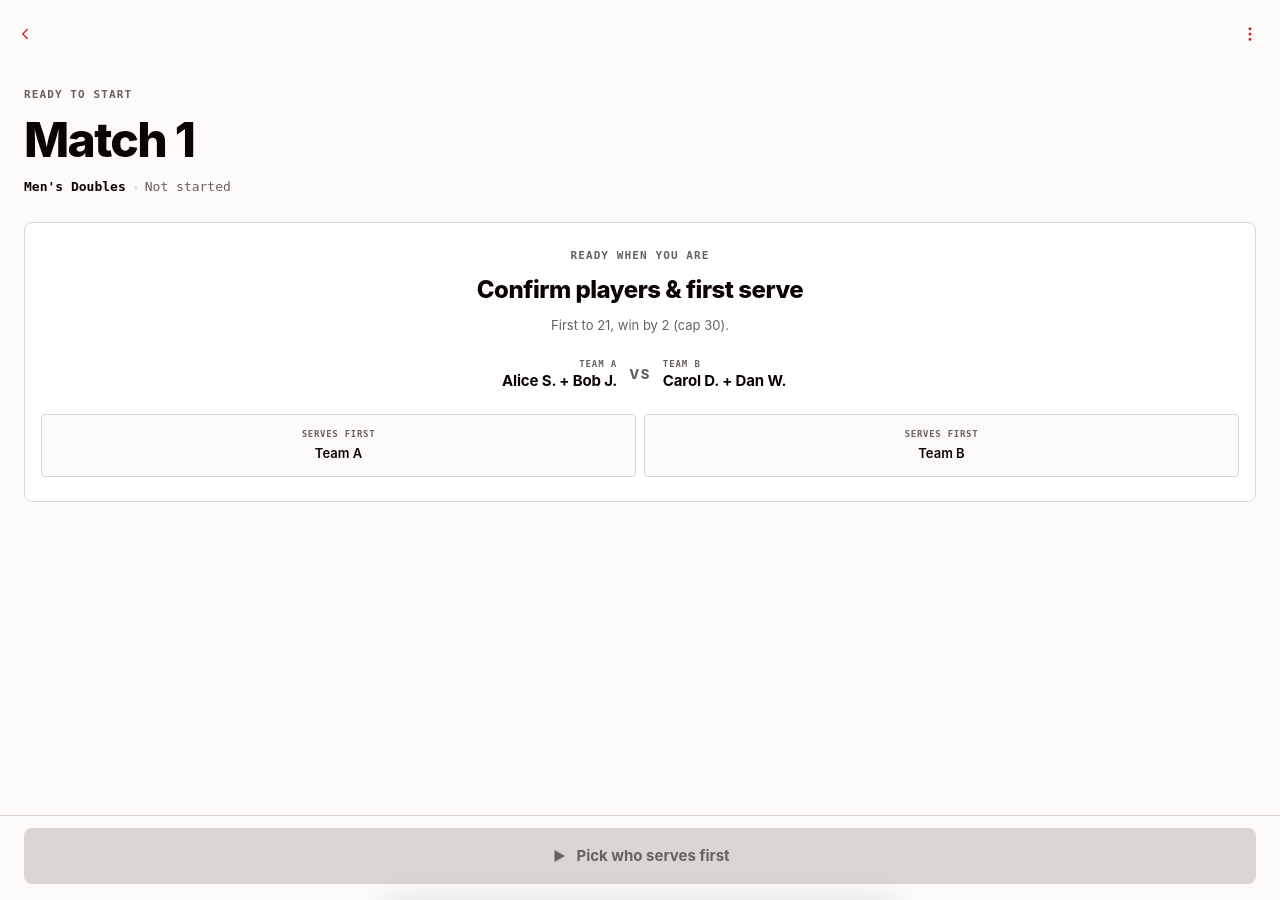
MatchDetailPage › menu sheet › shows "Delete match" option in the menu
What coordinates should you click on to do the following:
click the button named "more options"
I would click on:
 (1250, 34)
Its box is x1=1228 y1=12 x2=1272 y2=56.
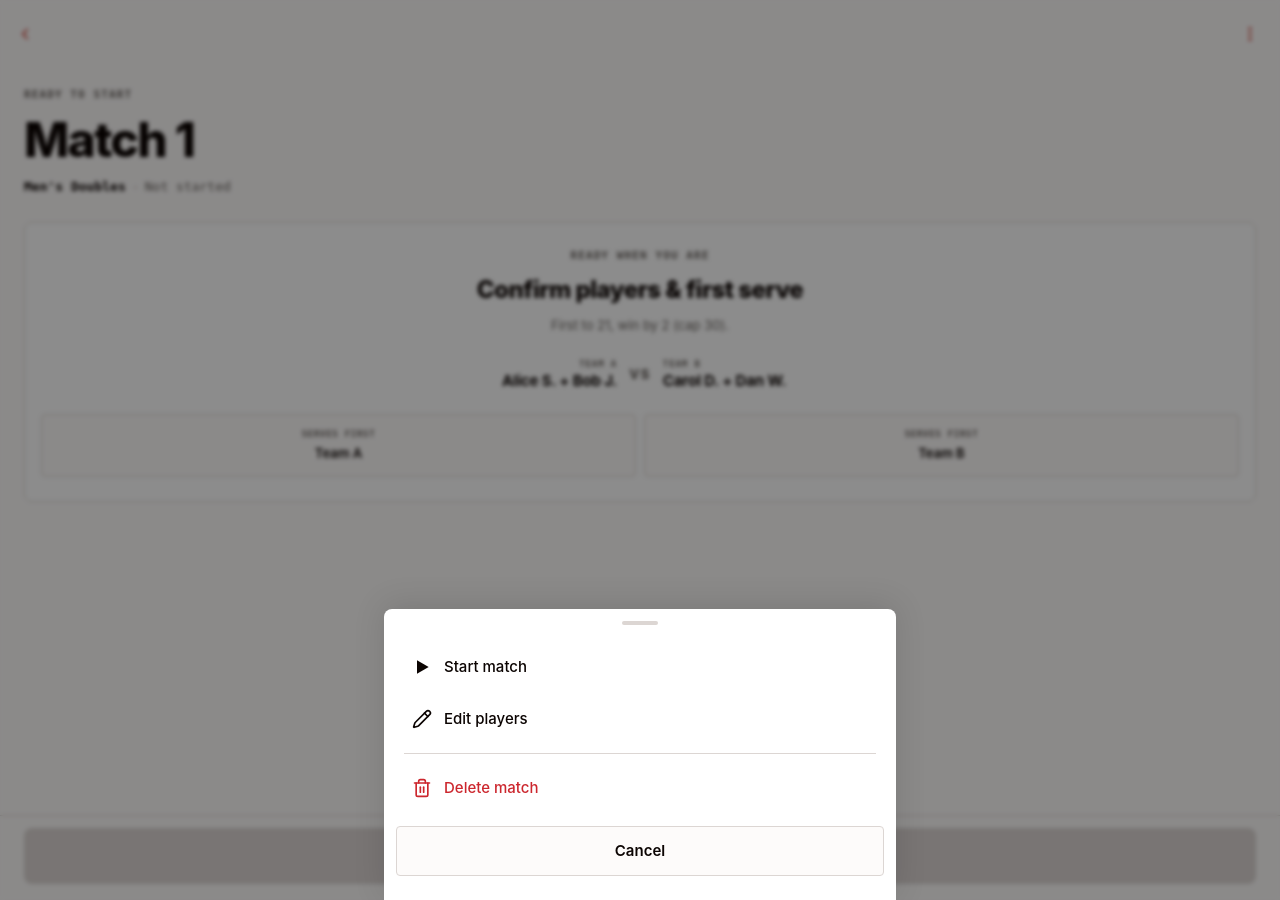
Now the text "Delete match" is shown, box x1=444 y1=776 x2=538 y2=800
